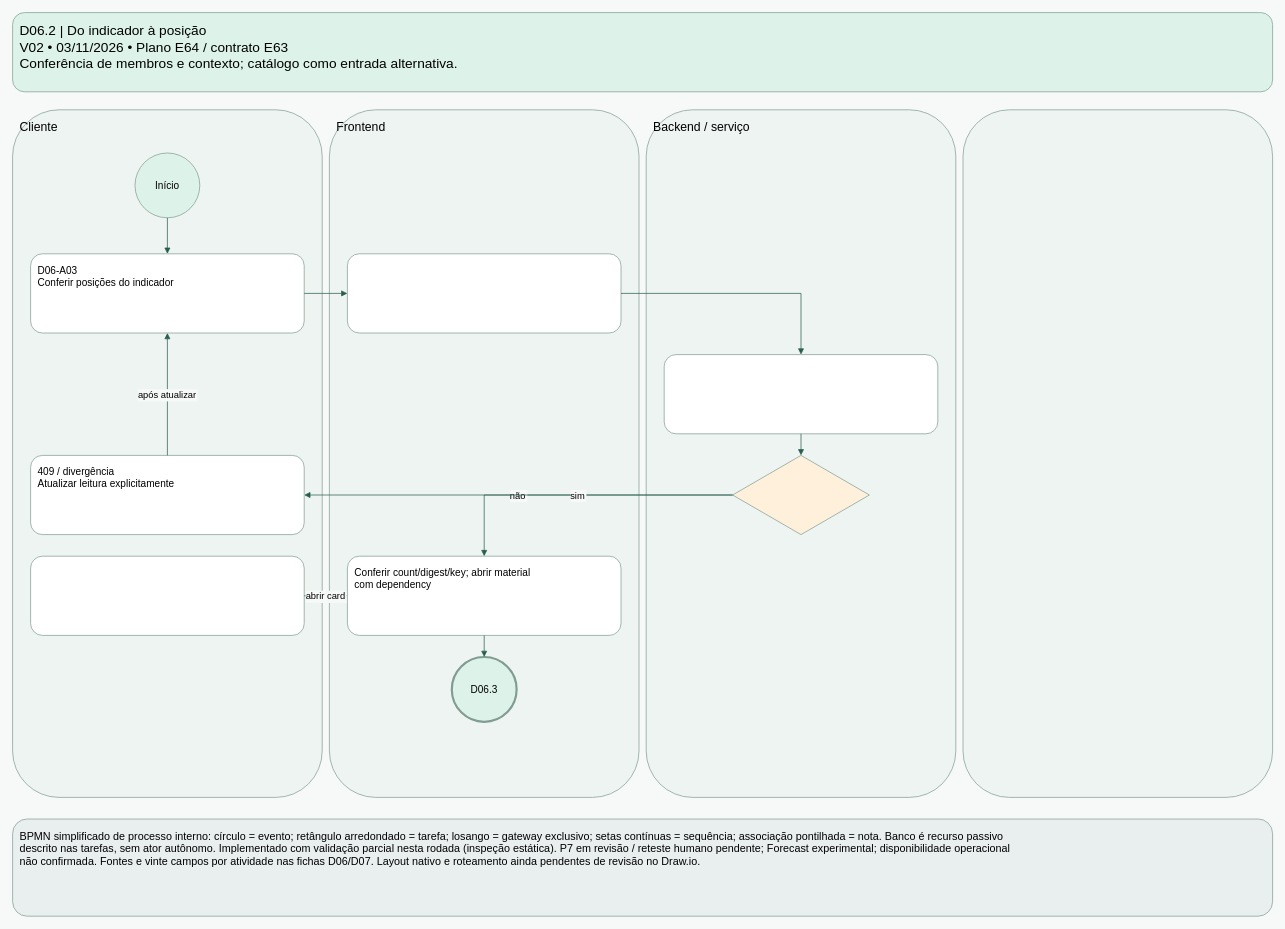
This 1285x929 diagram has some shape labels left out. The shapes that lost their labels are listed below. From the top down, each one's centre as x and y in pixels, then its label:
At (x=484, y=293): "Enviar members_key e expected_context".
At (x=800, y=394): "Reconsultar conjunto; conferir contexto".
At (x=1117, y=453): "Motor aprovado".
At (x=800, y=495): "Mesmo contexto?".
At (x=167, y=595): "D06-A04 Materiais: busca/cards; métrica ausente mantém catálogo".
